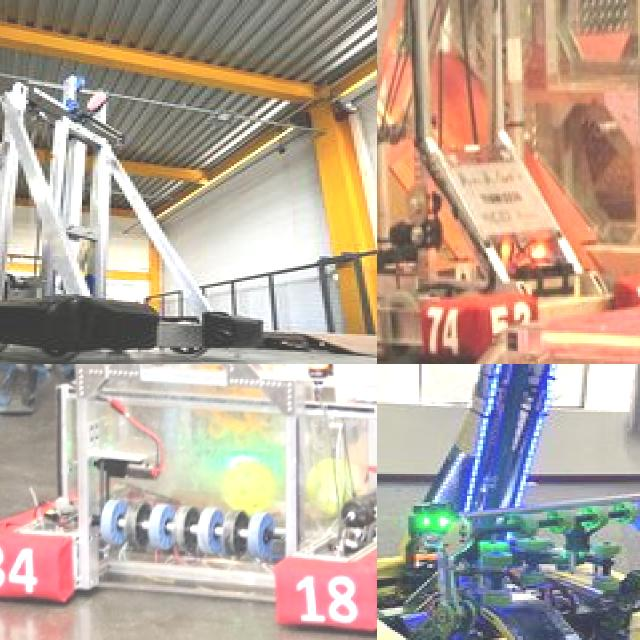FRC-Robots: (0, 364, 377, 640), (377, 0, 640, 364), (377, 364, 640, 640)
